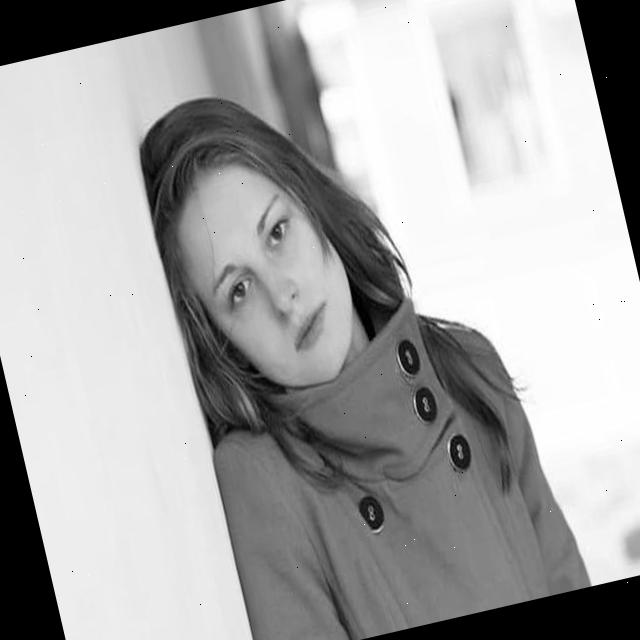Sadness: (157, 141, 370, 408)
